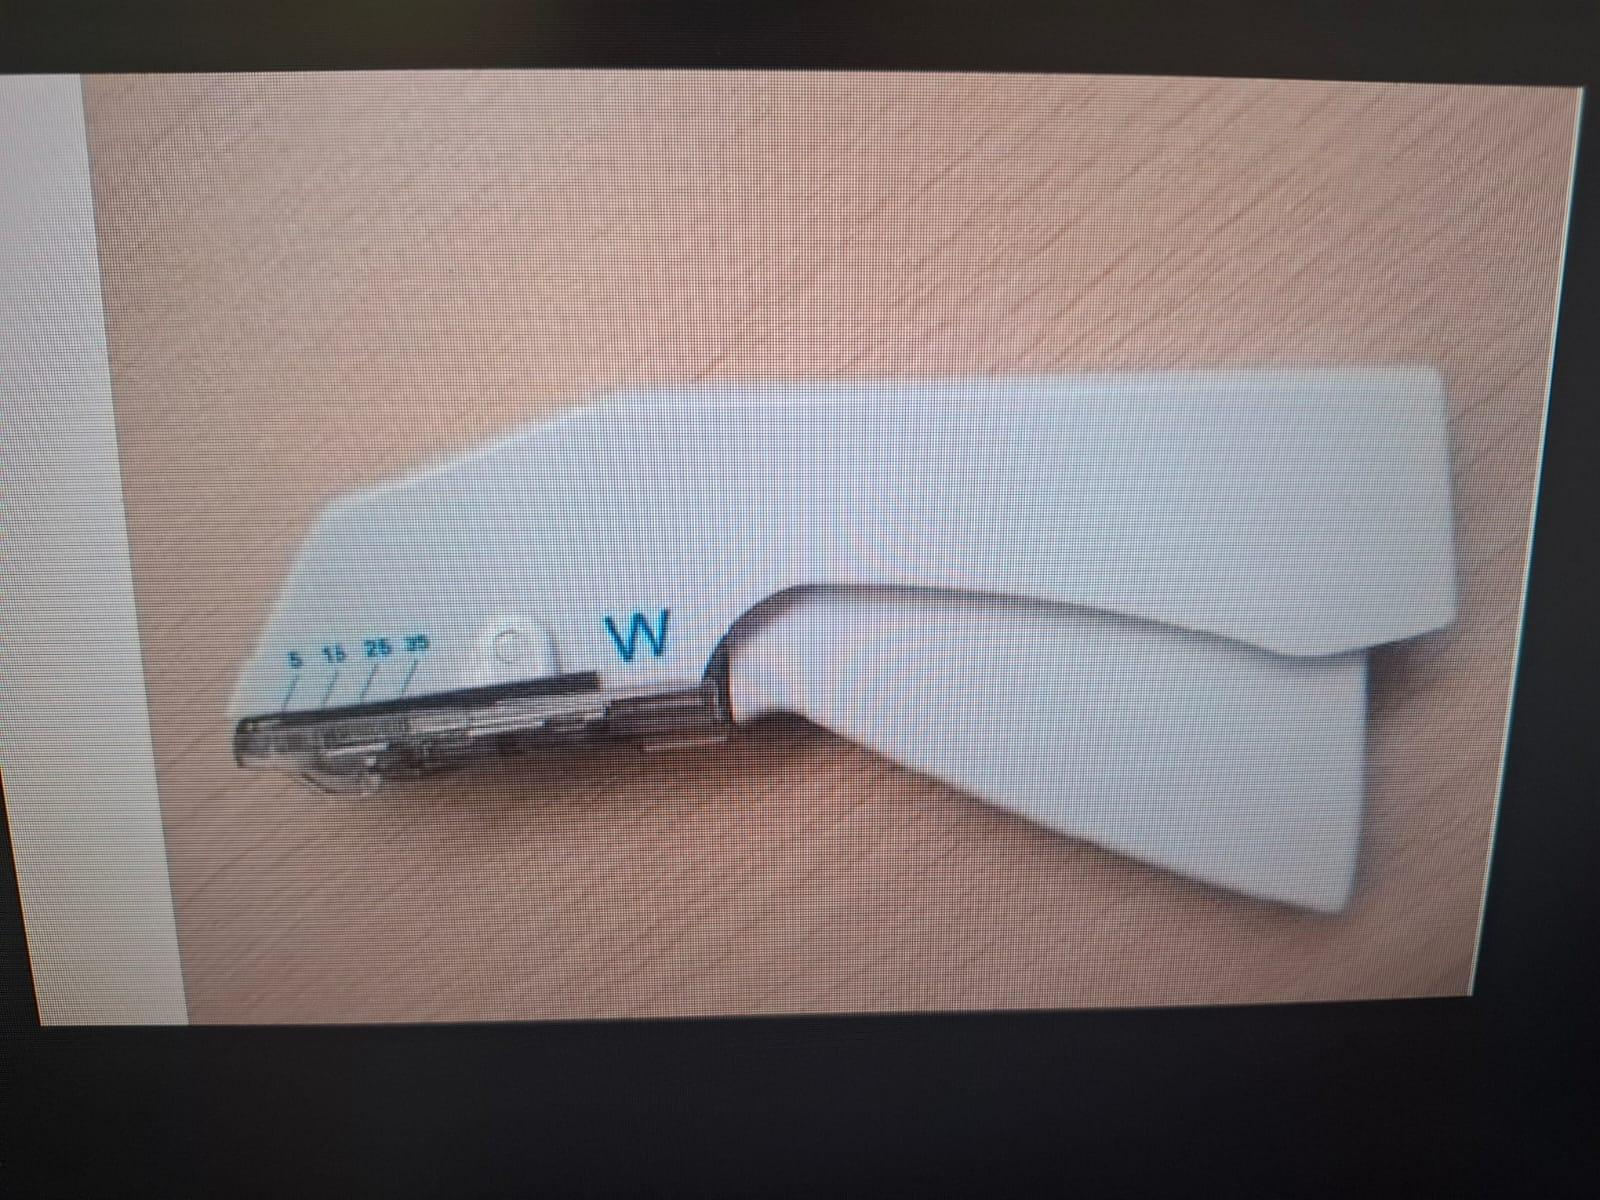Skin Stapler: (202, 355, 1480, 932)
